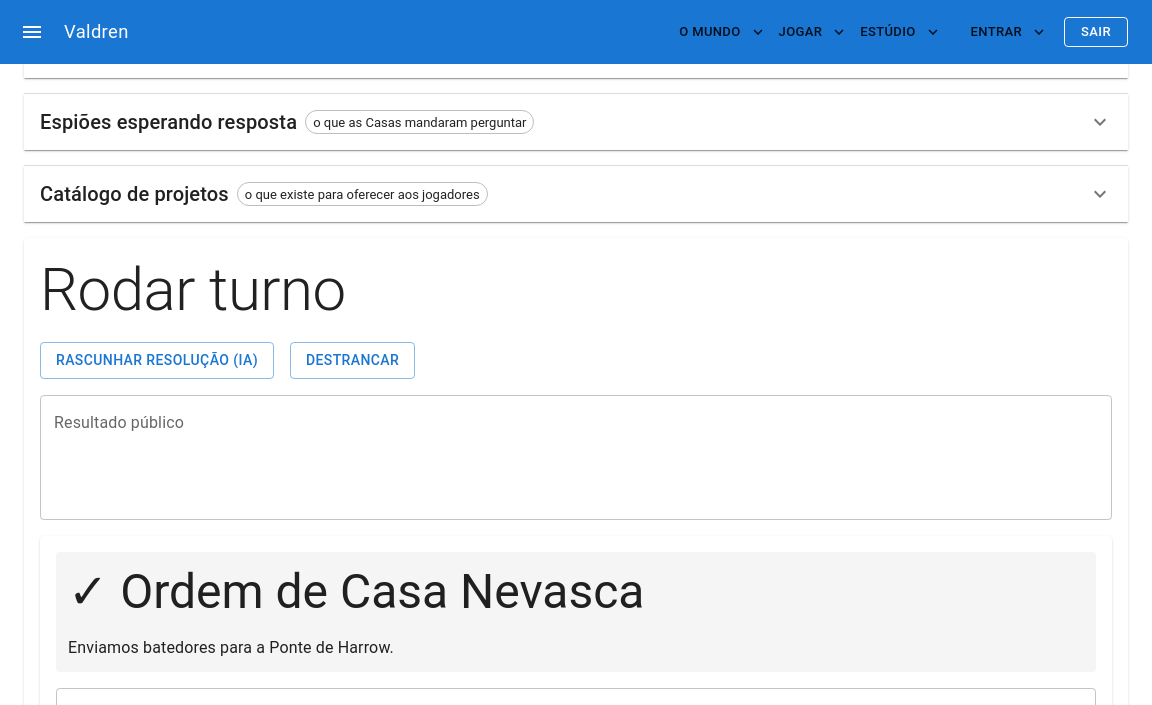
AdminPage › keeps drafted resolution visible after the AI action returns
The image size is (1152, 705).
(page scrolled)
Expected: the heading "Rodar turno" is shown, [40,254,346,325]
Click the button "Rascunhar resolução (IA)".
click(157, 360)  # box [40,342,274,378]
(page scrolled)
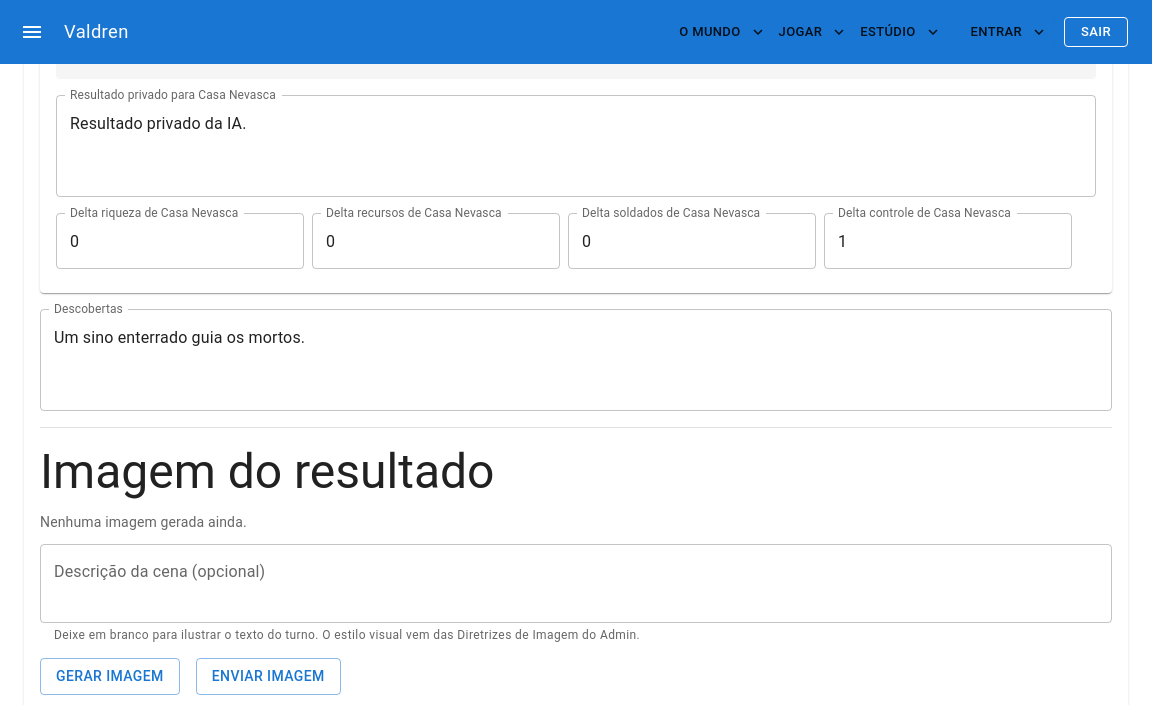
Result: the text box labelled "Resultado privado para Casa Nevasca" holds "Resultado privado da IA." at [70,112,1082,181]
Result: the text box labelled "Descobertas" holds "Um sino enterrado guia os mortos." at [54,326,1098,395]
